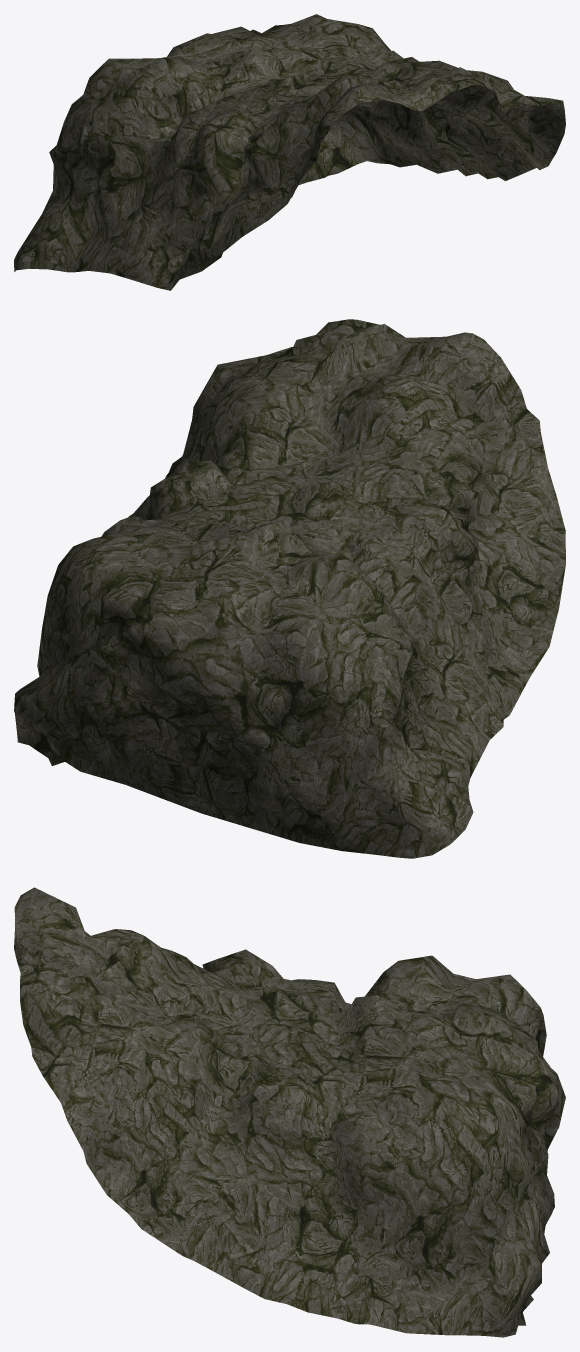
The model's file is TI_Cliff_01_f_LOD_01.fbx.
3 views of the same model, one above another, from view 1: azimuth 30°, elevation 25°; view 2: azimuth 150°, elevation 25°; view 3: azimuth 270°, elevation 25° (orthographic). The views are drawn at different scales.
Visible parts, largest first — view 1: TI_Cliff_01_f_LOD_01; view 2: TI_Cliff_01_f_LOD_01; view 3: TI_Cliff_01_f_LOD_01.
Boxes of the visible parts, box(x1,y1,x2,y2) form: TI_Cliff_01_f_LOD_01: box(14, 14, 565, 290); TI_Cliff_01_f_LOD_01: box(14, 319, 565, 858); TI_Cliff_01_f_LOD_01: box(14, 887, 565, 1337).
Size of the model in its own units: 27.21 by 18.25 by 25.62.
